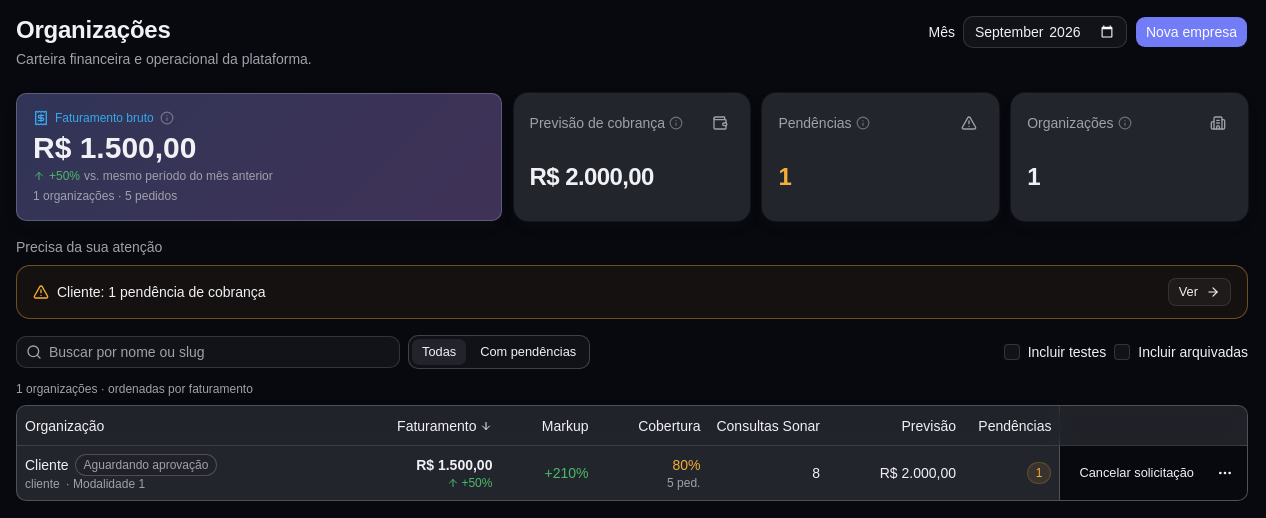
Test: Organizacoes › mantém o cancelamento visível e bloqueia cliques repetidos enquanto processa
The width and height of the screenshot is (1266, 518).
Step 1. Click the button "Cancelar solicitação" → (1137, 473), box [1068,459,1205,487]
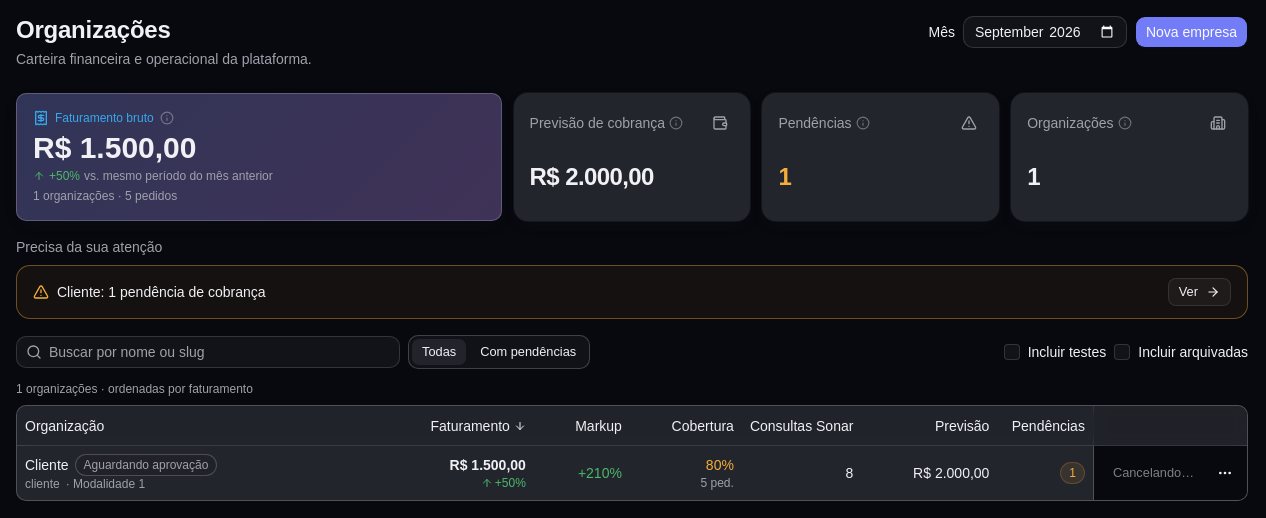
Expected: the button "Cancelando…" is disabled, [1102,459,1205,487]
